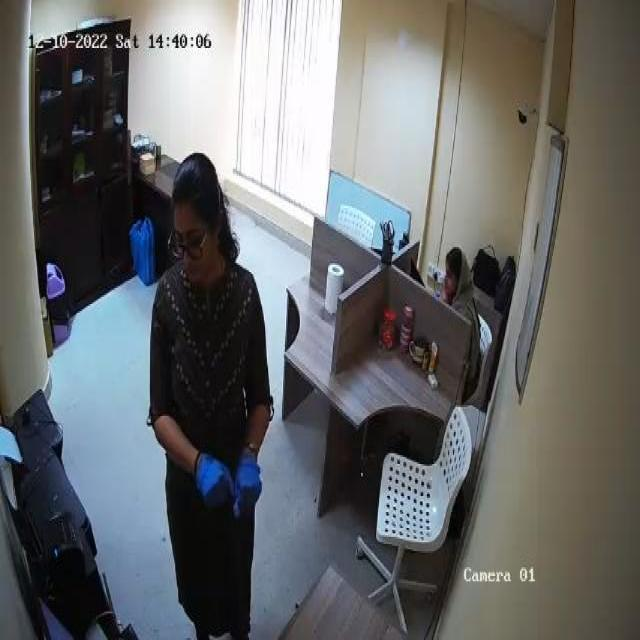gloved_hand: (233, 457, 264, 521), (199, 452, 228, 514)
